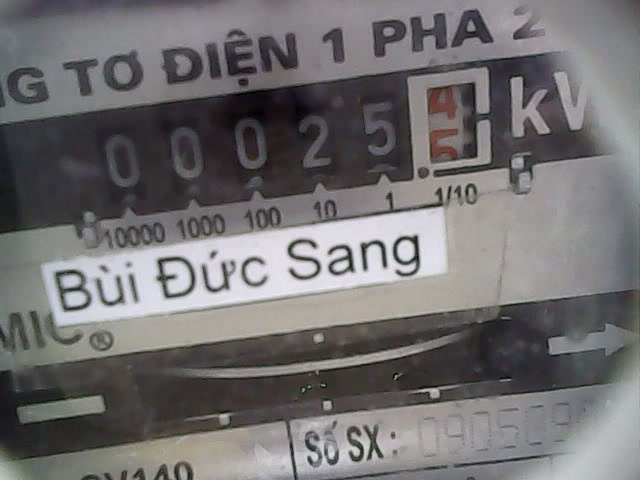phy_plate: (72, 65, 505, 203)
